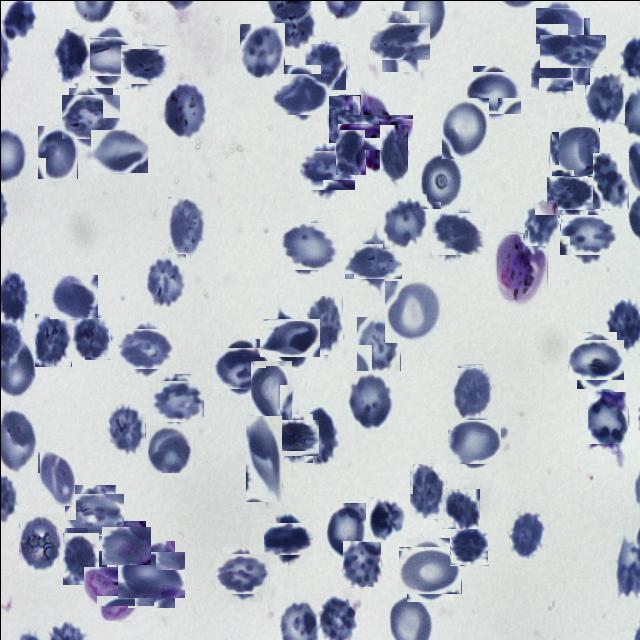gametocyte: (496, 232, 547, 299)
red blood cell: (384, 280, 440, 342), (122, 545, 179, 602), (245, 415, 281, 501), (402, 542, 457, 598), (441, 97, 488, 158), (18, 511, 64, 571), (82, 29, 134, 82), (283, 219, 335, 272), (347, 370, 393, 429), (64, 90, 116, 142), (68, 488, 119, 539), (161, 81, 205, 140), (239, 22, 284, 79), (250, 359, 292, 420), (216, 342, 266, 392), (274, 68, 324, 118), (548, 26, 598, 76), (88, 129, 146, 172), (563, 210, 613, 259), (449, 416, 498, 466), (264, 313, 314, 362), (298, 406, 338, 467), (420, 150, 462, 208), (356, 315, 400, 370), (382, 193, 426, 248), (375, 16, 424, 65), (550, 126, 598, 175), (151, 376, 199, 425), (146, 424, 192, 475), (218, 550, 266, 598), (469, 68, 517, 116), (572, 336, 620, 384), (121, 324, 169, 372), (433, 210, 481, 258), (324, 502, 365, 558), (167, 196, 204, 258), (302, 146, 350, 193), (145, 252, 186, 306), (348, 238, 396, 284), (587, 390, 628, 443), (50, 273, 96, 320), (37, 124, 77, 178), (452, 363, 492, 417), (306, 295, 342, 354), (37, 450, 75, 505), (584, 71, 624, 123), (409, 462, 446, 518), (109, 399, 145, 455), (592, 152, 628, 208), (34, 312, 71, 366), (122, 41, 166, 86), (53, 28, 89, 82), (104, 522, 148, 566), (508, 507, 544, 560), (304, 43, 345, 89), (62, 532, 98, 584), (273, 416, 315, 459), (342, 540, 381, 586), (550, 172, 592, 214), (538, 4, 580, 46), (267, 518, 308, 559), (70, 317, 110, 359), (530, 51, 571, 91), (448, 526, 488, 566), (379, 124, 407, 181), (368, 496, 404, 540), (328, 94, 360, 142), (524, 200, 558, 245), (442, 488, 479, 528), (335, 128, 365, 174)
trophozoite: (346, 104, 402, 160), (90, 558, 146, 613)
